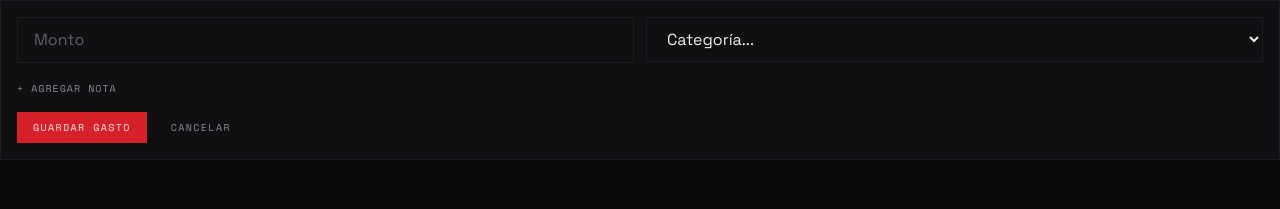
ExpenseQuickAdd › refuses to report an add whose mutation came back without an id
The width and height of the screenshot is (1280, 209).
Type "1500" into the number field labelled "Monto" at (326, 40), box [17,17,634,63]
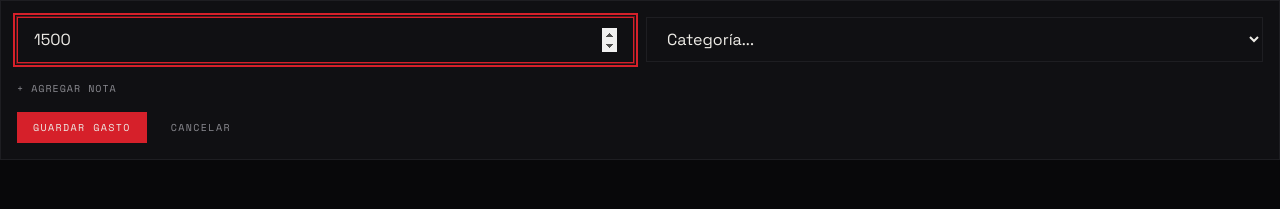
Select "👕 Merch" in the dropdown named "Categoría" at (954, 40), box [646,17,1263,62]
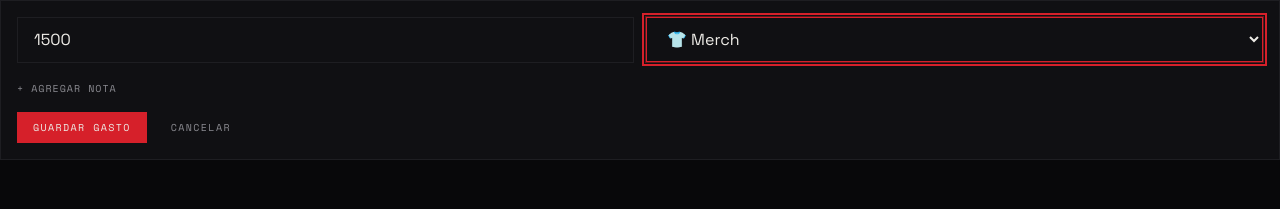
Click the button "Guardar gasto" at (82, 128), box [17,112,147,143]
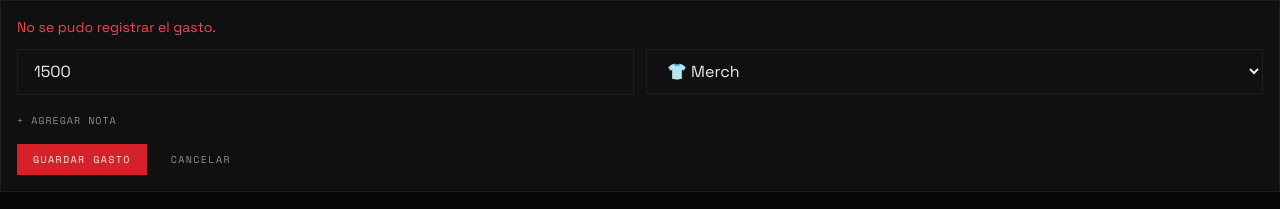
Check: the message reads "No se pudo registrar el gasto.", box [17,18,216,36]
